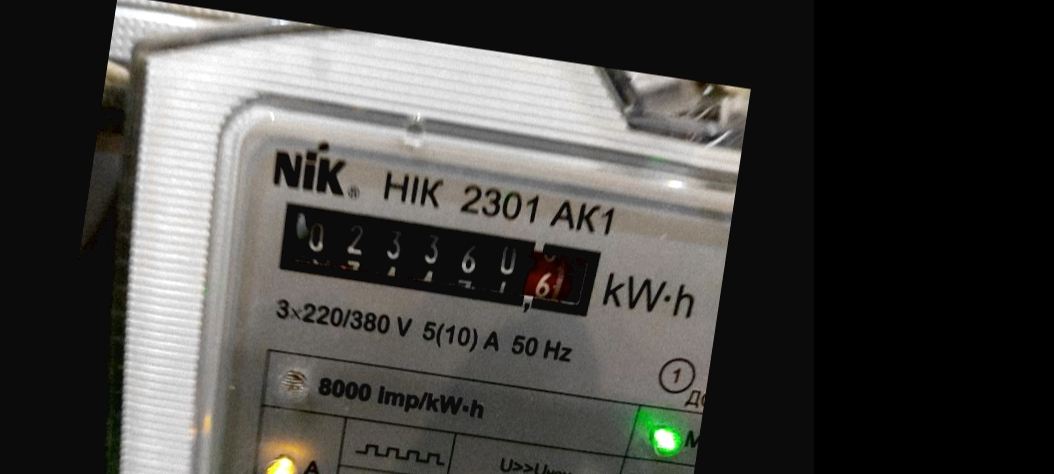0: (301, 216, 328, 254), (492, 241, 519, 278)
2: (341, 220, 367, 258)
3: (379, 226, 404, 263), (418, 231, 441, 267)
6: (454, 239, 479, 276), (530, 265, 552, 300)
screen: (258, 188, 620, 337)
